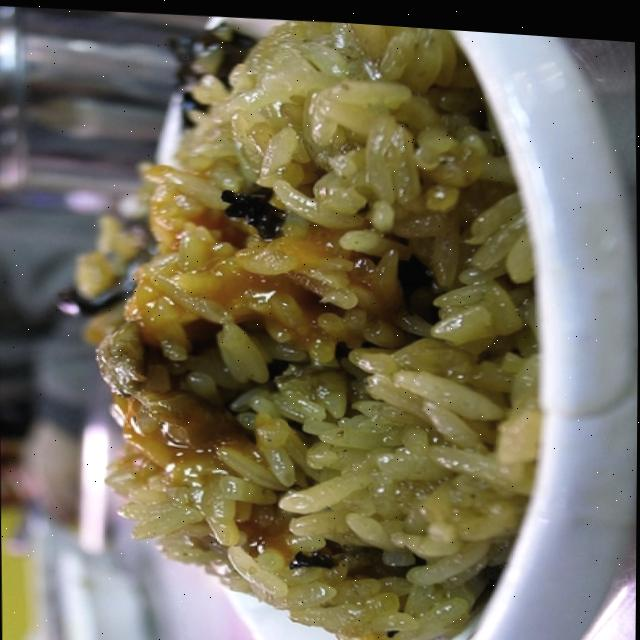米饭主食: (52, 3, 616, 640)
